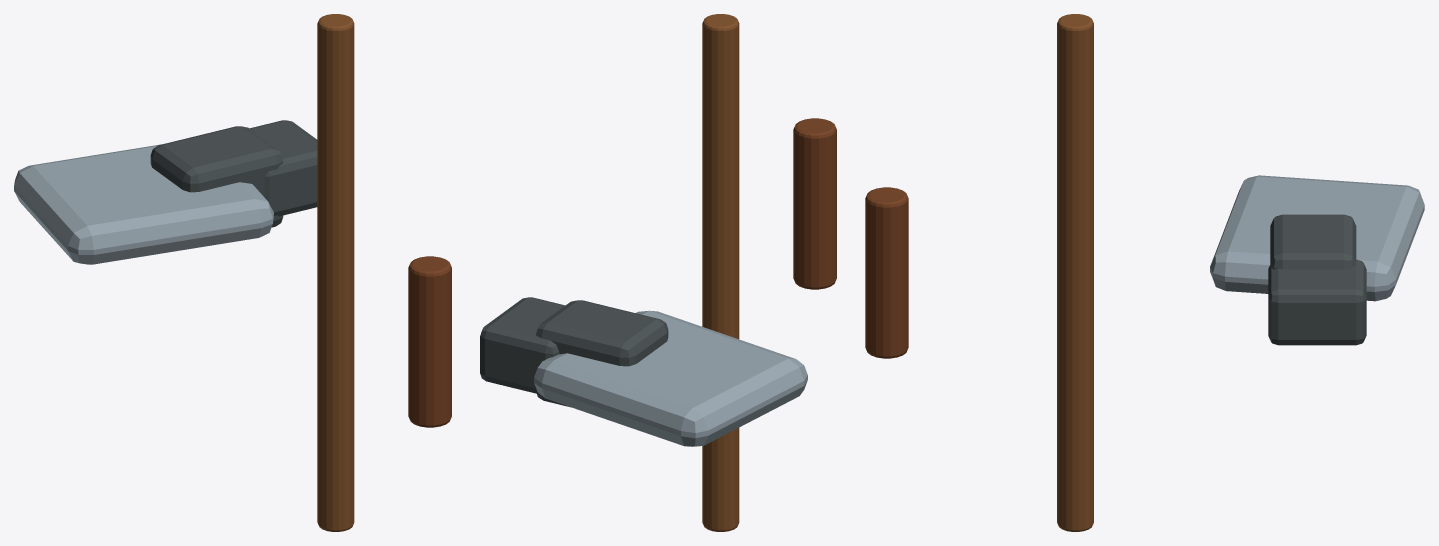
File: axe.glb
3 renders of one model, left to right at view 1: azimuth 30°, elevation 25°; view 2: azimuth 150°, elevation 25°; view 3: azimuth 270°, elevation 25°, orthographic.
Parts seen in each view (by area): view 1: Axe_Blade, Axe_Handle, Axe_Grip, Axe_Eye, Axe_Poll; view 2: Axe_Blade, Axe_Handle, Axe_Grip, Axe_Eye, Axe_Poll; view 3: Axe_Handle, Axe_Blade, Axe_Poll, Axe_Grip, Axe_Eye.
Boxes of the visible parts, x1,y1,x2,y2 form: Axe_Blade: [14, 144, 273, 264]; Axe_Handle: [317, 14, 354, 531]; Axe_Grip: [408, 256, 451, 427]; Axe_Eye: [150, 126, 283, 227]; Axe_Poll: [249, 120, 317, 216]; Axe_Blade: [534, 310, 807, 446]; Axe_Handle: [702, 14, 739, 531]; Axe_Grip: [793, 118, 836, 289]; Axe_Eye: [536, 300, 668, 407]; Axe_Poll: [480, 297, 565, 394]; Axe_Handle: [1057, 14, 1093, 531]; Axe_Blade: [1210, 175, 1424, 301]; Axe_Poll: [1268, 259, 1366, 345]; Axe_Grip: [865, 187, 908, 358]; Axe_Eye: [1270, 214, 1356, 269].
Bounding box in the file's own units: 0.7748 × 1.36 × 1.36.
